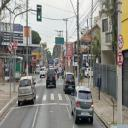NoVirarEsquerda: (8, 43, 12, 52)
speed_limit_50: (118, 34, 123, 49)
